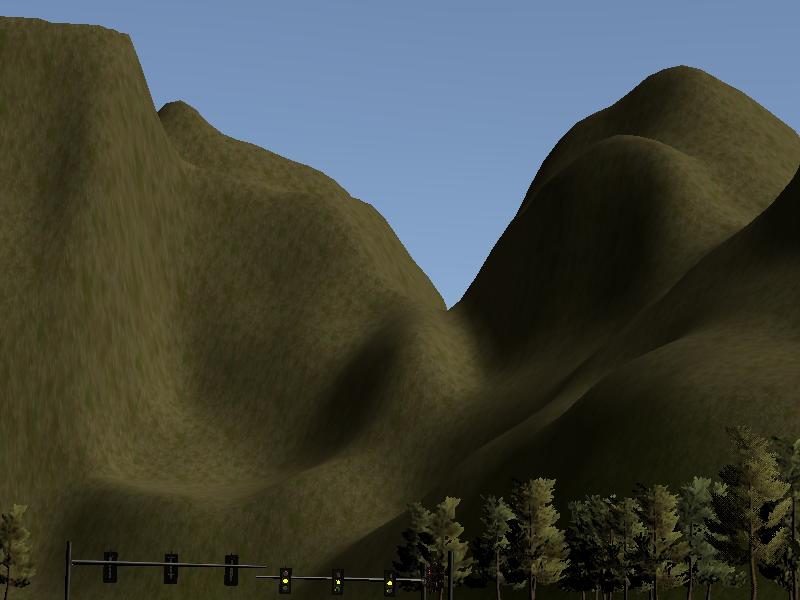yellow: (382, 569, 396, 598), (279, 566, 291, 594), (333, 569, 343, 595)
